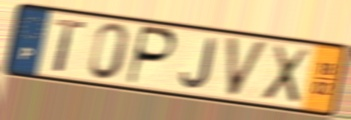0: (88, 21, 132, 82)
J: (179, 36, 218, 91)
P: (124, 23, 179, 87)
T: (53, 16, 87, 75)
V: (225, 35, 271, 101)
X: (259, 42, 312, 106)
